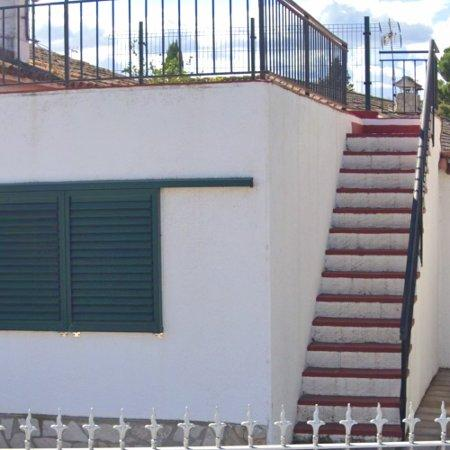stairs: (295, 119, 421, 442)
